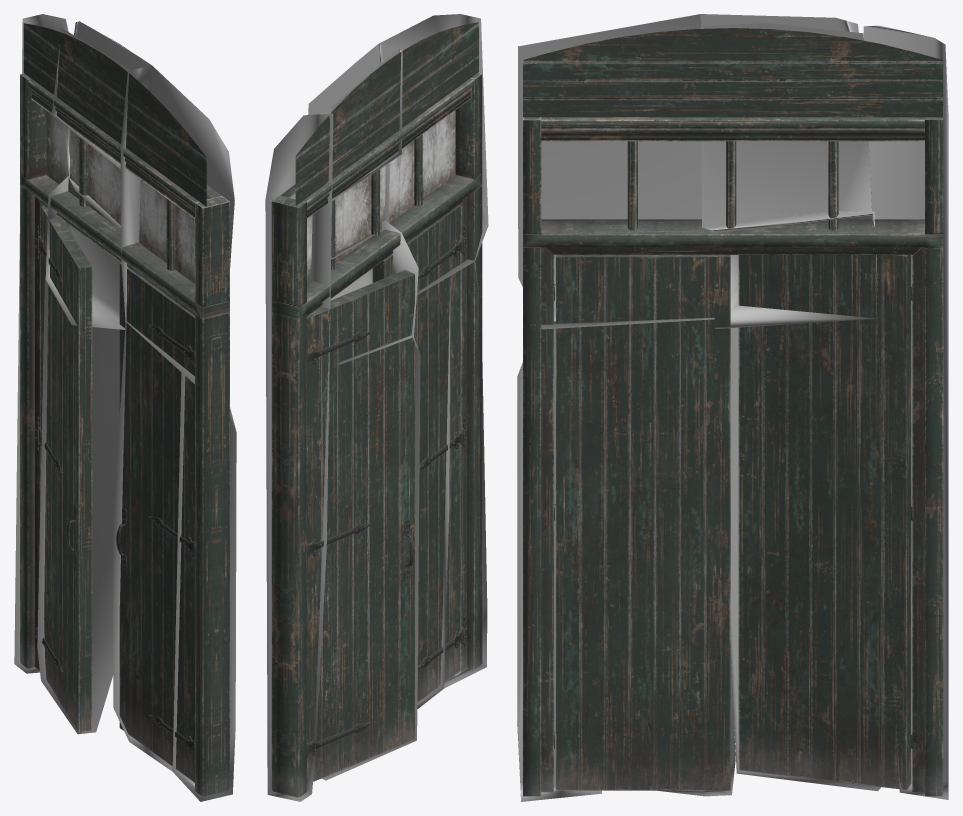
Rendered from SM_Door_Frame.gltf.
3 renders of one model, left to right at view 1: azimuth 30°, elevation 25°; view 2: azimuth 150°, elevation 25°; view 3: azimuth 270°, elevation 25°, orthographic. The views are drawn at different scales.
Visible parts, largest first — view 1: SM_Door_Frame_LOD0, SM_Door_Frame_ConvexHulls; view 2: SM_Door_Frame_LOD0, SM_Door_Frame_ConvexHulls; view 3: SM_Door_Frame_LOD0, SM_Door_Frame_ConvexHulls.
Part boxes in pixels (bbox=[...]): SM_Door_Frame_LOD0: bbox=[20, 23, 229, 796]; SM_Door_Frame_ConvexHulls: bbox=[14, 14, 236, 801]; SM_Door_Frame_LOD0: bbox=[271, 22, 482, 797]; SM_Door_Frame_ConvexHulls: bbox=[265, 14, 488, 801]; SM_Door_Frame_LOD0: bbox=[523, 28, 943, 796]; SM_Door_Frame_ConvexHulls: bbox=[517, 14, 948, 801].
Size of what is drawn, in the model's own units: 0.4405 by 4.26 by 2.15.
